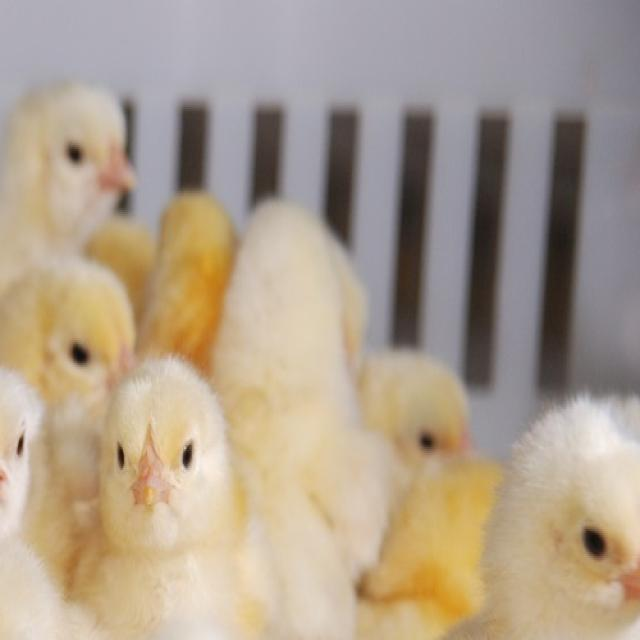chicks: (499, 428, 640, 619), (246, 210, 358, 385), (12, 83, 146, 226), (104, 395, 221, 536), (10, 269, 136, 388), (157, 204, 227, 372), (378, 355, 479, 468), (414, 473, 495, 611), (306, 458, 399, 574), (0, 380, 49, 527), (0, 600, 46, 640)
